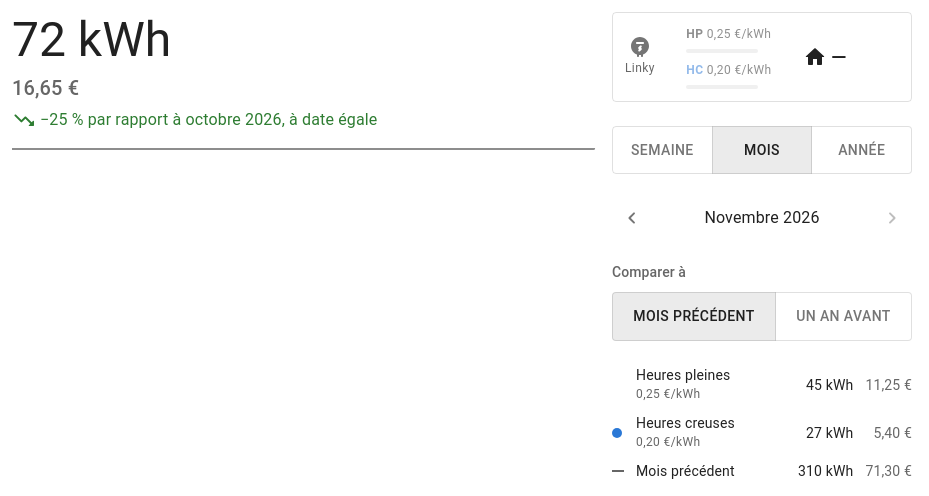
Test case: EnergyModalContent › charge le mois en cours et le mois précédent jour par jour, puis l’année mois par mois
Expected: the text "−25 % par rapport à octobre 2026, à date égale" is shown, x1=40 y1=108 x2=378 y2=132
Click the button "Année" at {"x": 862, "y": 150}, box x1=811 y1=126 x2=912 y2=174
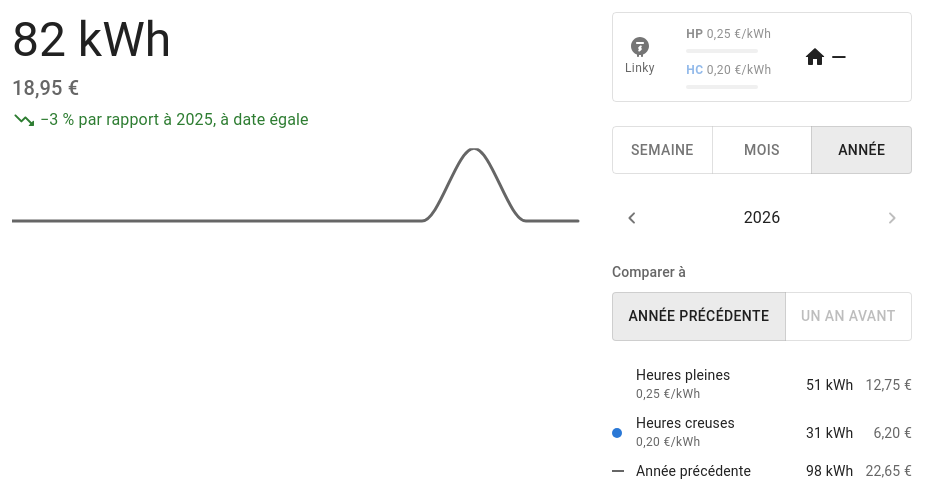
Expected: the text "−3 % par rapport à 2025, à date égale" is shown, x1=40 y1=108 x2=309 y2=132
Expected: the button "Un an avant" is disabled, x1=785 y1=292 x2=912 y2=341
